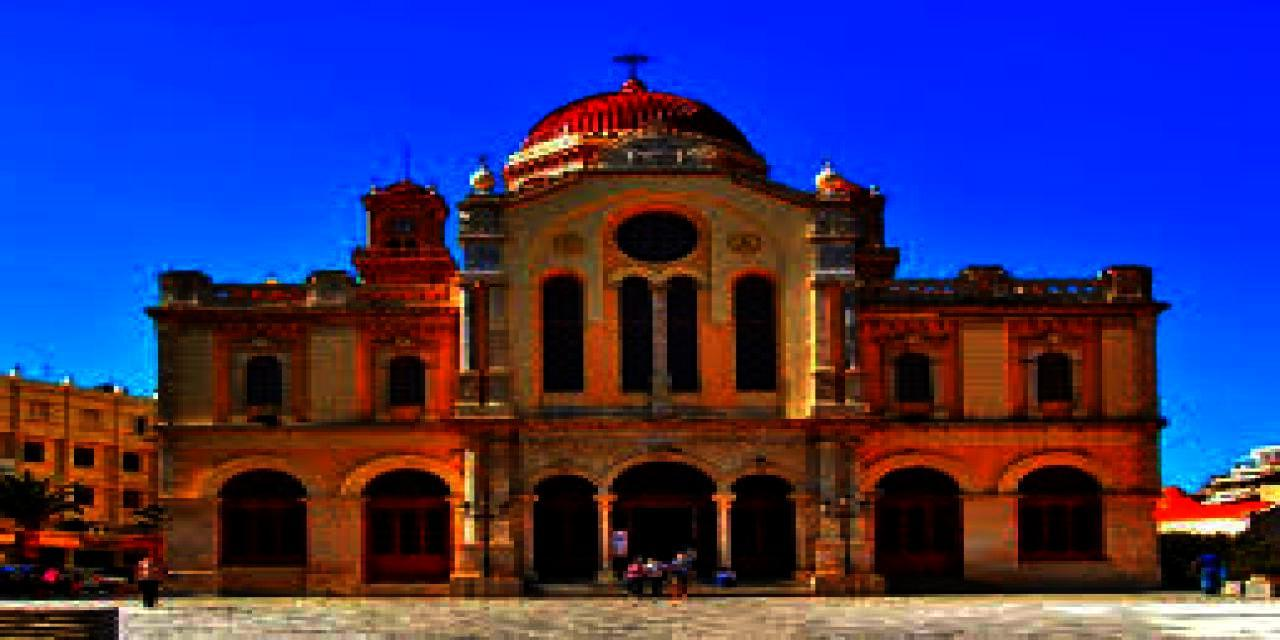Agios Minas: (157, 46, 1189, 596)
